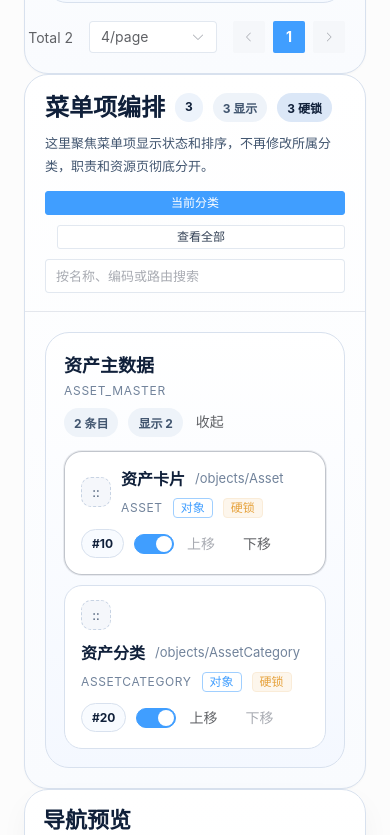
Test case: SystemMenuLayoutManagement › keeps the preview in sync with collapsed group state
(page scrolled)
Step 1. Click the button with test id "toggle-group-asset_master" → click(210, 422), box [193,412,227,432]
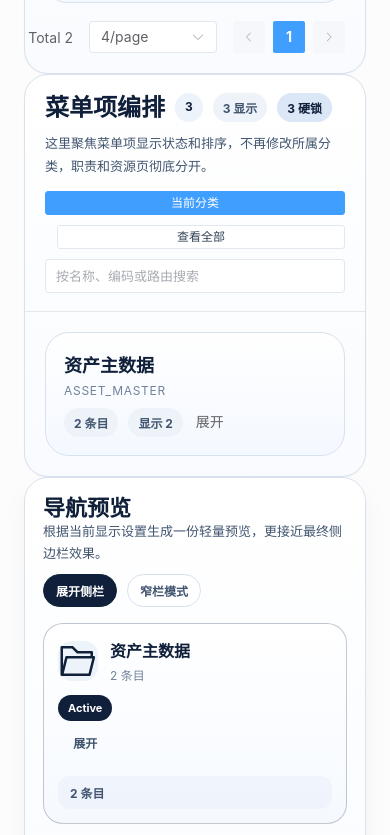
Result: the 3rd text "2 条目" is shown at [58,776,332,809]
